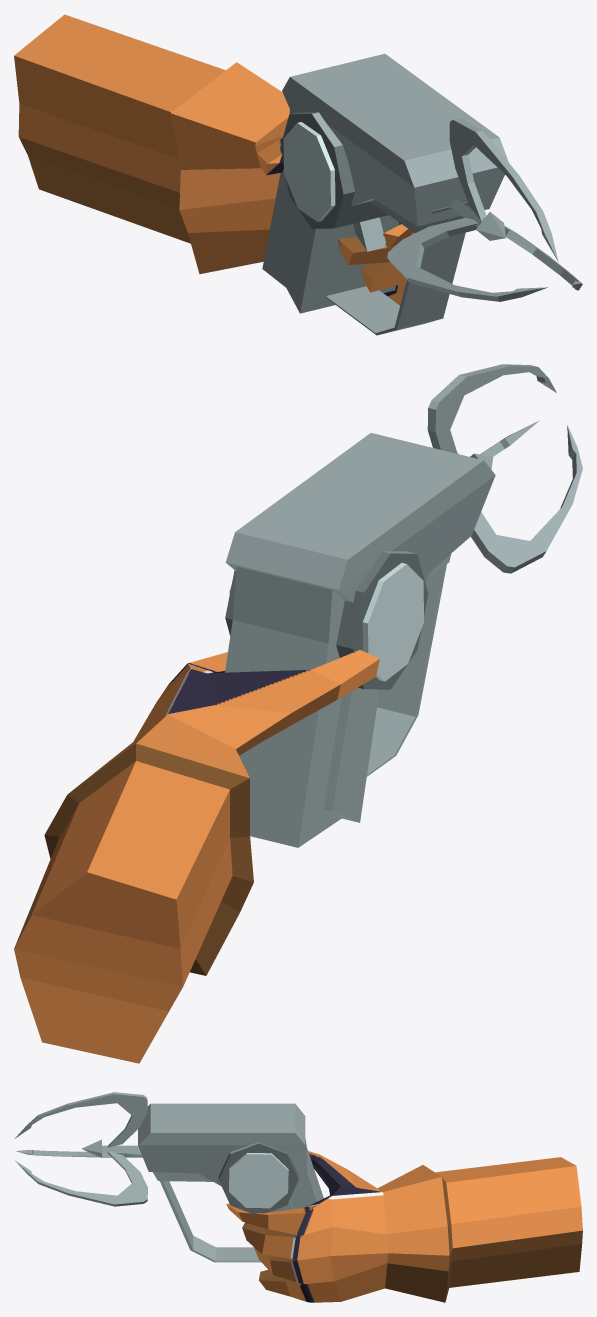
File: LeftHand.fbx
3 views of the same model, one above another, from view 1: azimuth 30°, elevation 25°; view 2: azimuth 150°, elevation 25°; view 3: azimuth 270°, elevation 25° (orthographic). The views are drawn at different scales.
Parts seen in each view (by area): view 1: Cone.002; view 2: Cone.002; view 3: Cone.002.
Part boxes in pixels (box(x1,y1,x2,y2)): Cone.002: box(14, 14, 582, 335); Cone.002: box(14, 364, 582, 1063); Cone.002: box(14, 1092, 582, 1302).
Size of the model in its own units: 472 by 636 by 1638.
